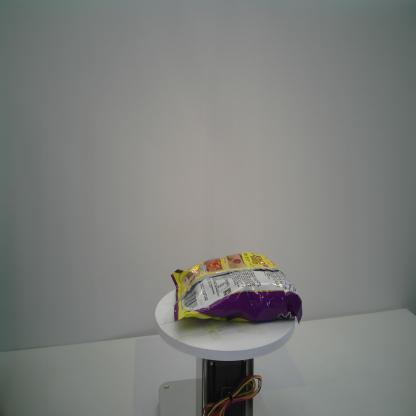Instant Noodles: (170, 250, 304, 325)
